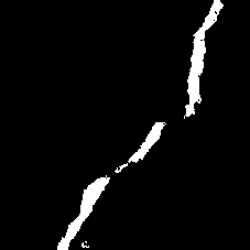crack: (183, 2, 224, 119), (58, 176, 109, 248), (118, 123, 165, 172)
